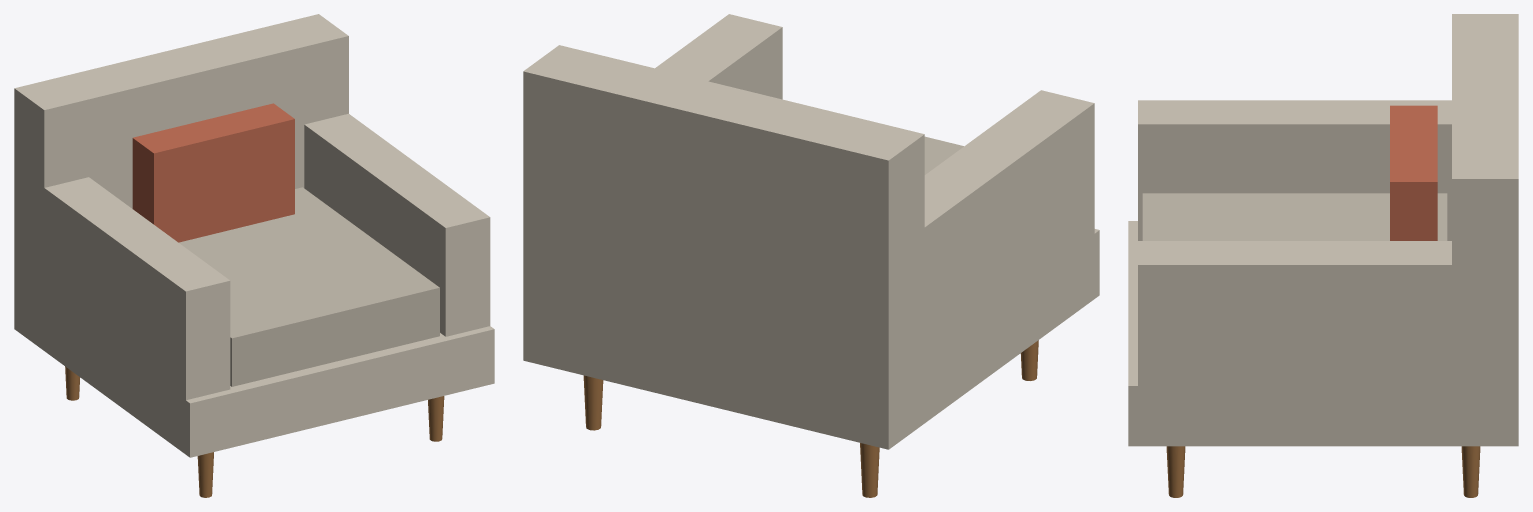
The model's file is armchair.glb.
3 renders of one model, left to right at view 1: azimuth 30°, elevation 25°; view 2: azimuth 150°, elevation 25°; view 3: azimuth 270°, elevation 25°, orthographic. The views are drawn at different scales.
Bounding box in the file's own units: 0.82 × 0.78 × 0.82.
